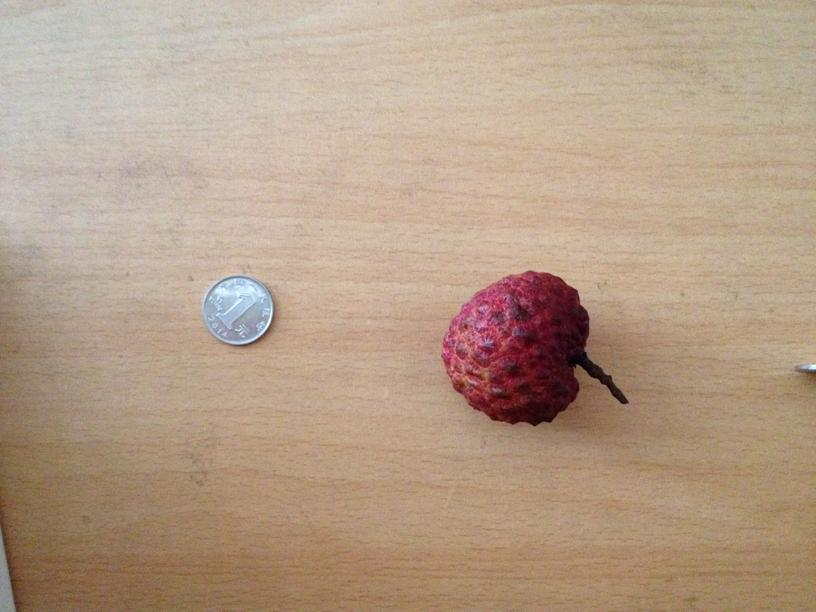coin: (204, 272, 274, 344)
litchi: (447, 269, 589, 428)
